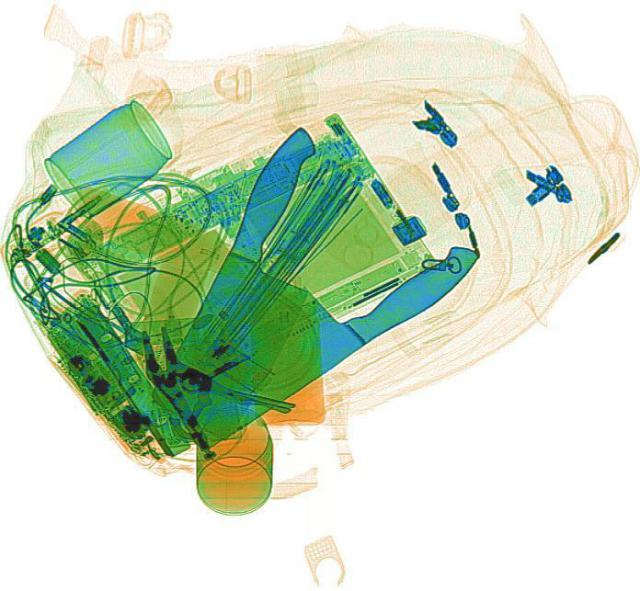Knife: (142, 197, 486, 452), (138, 120, 382, 443)
